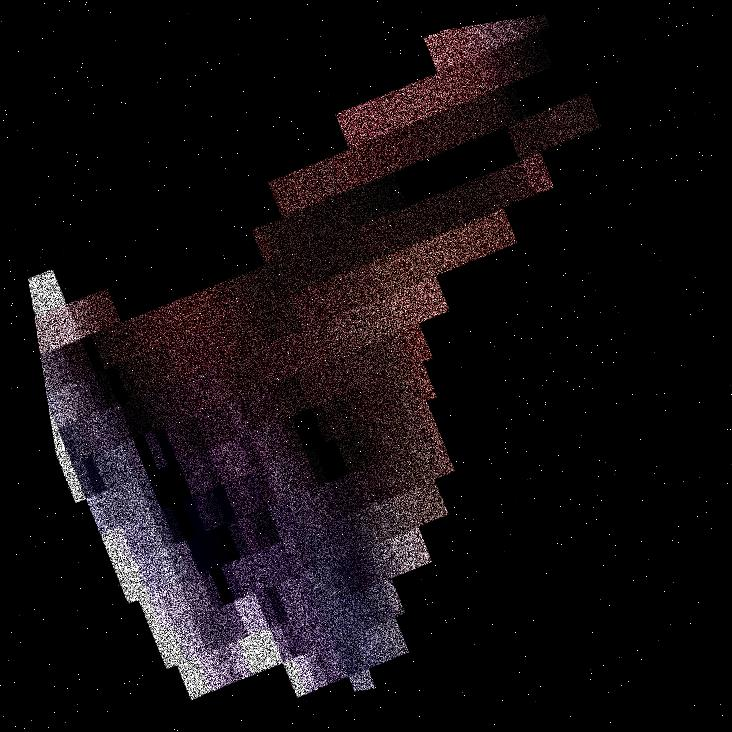Oculos: (129, 0, 380, 731)
